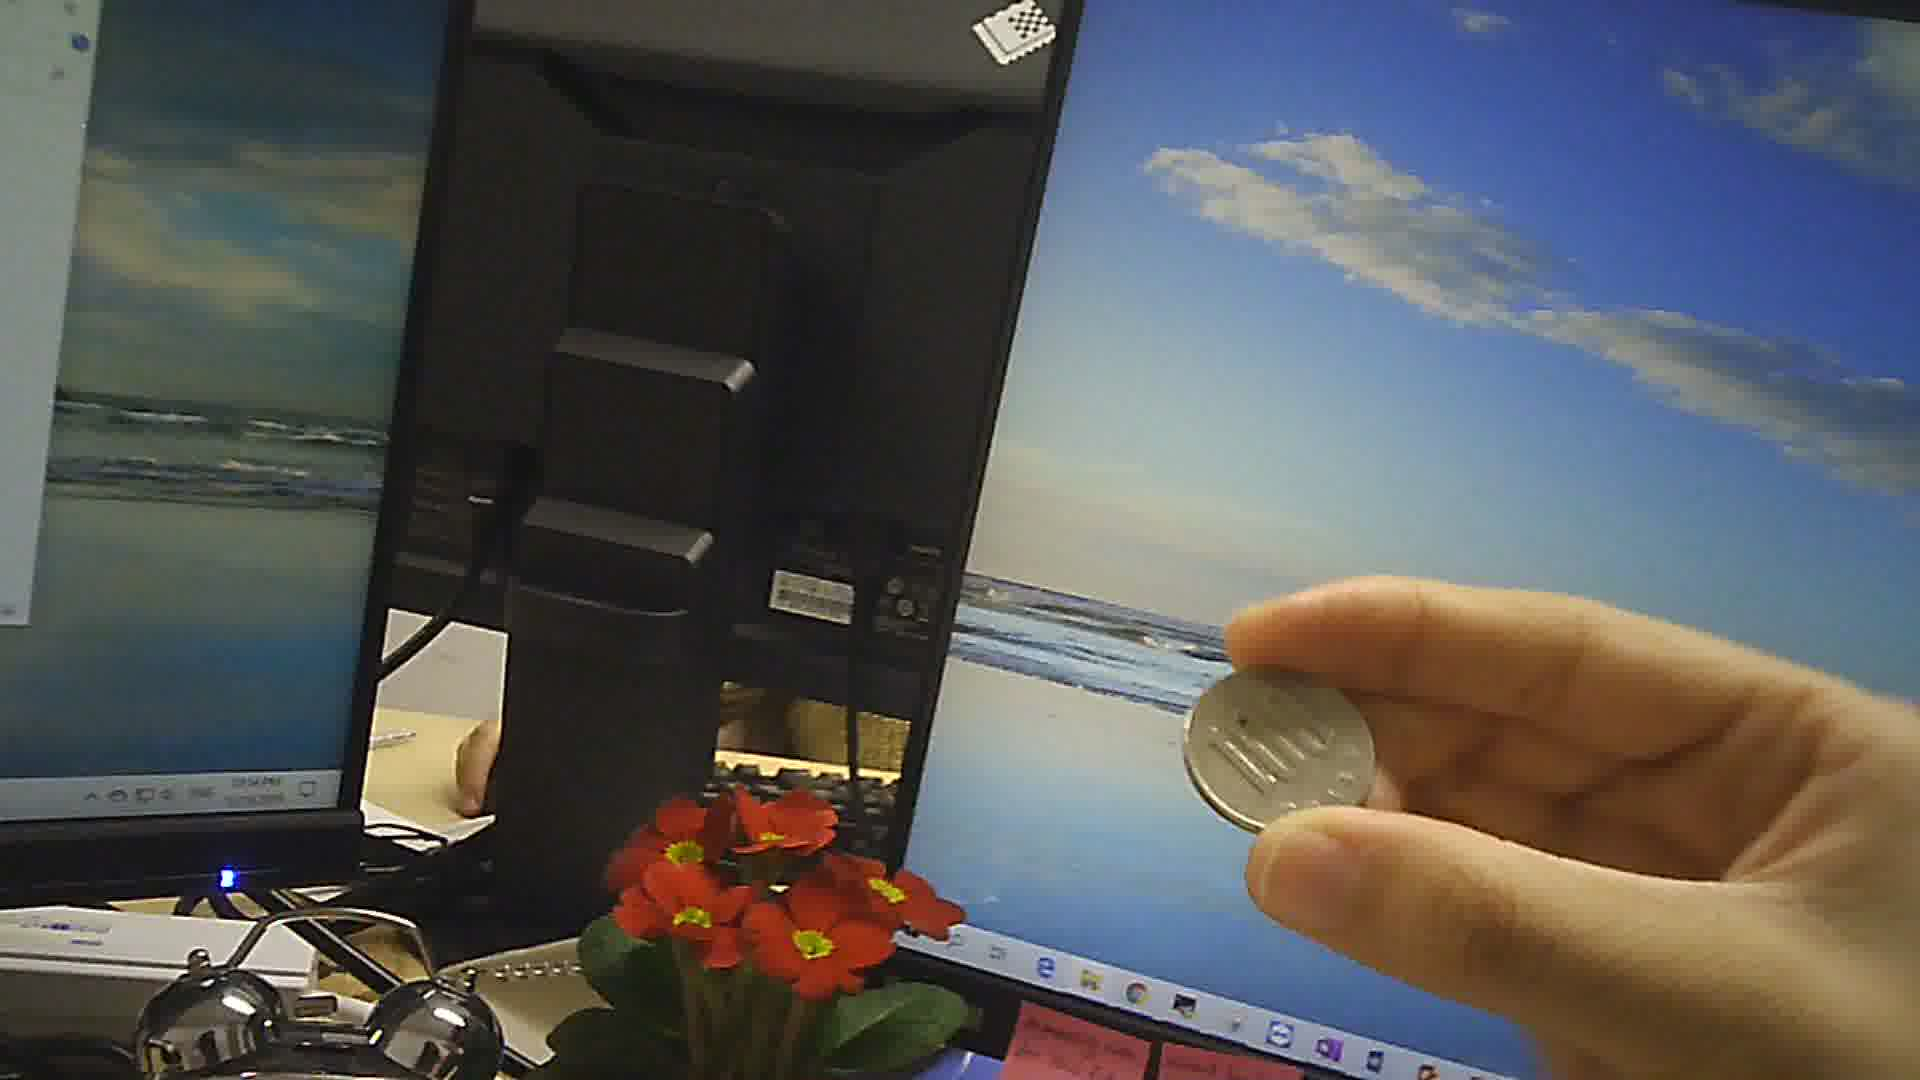100 Yen: (1175, 657, 1383, 825)
